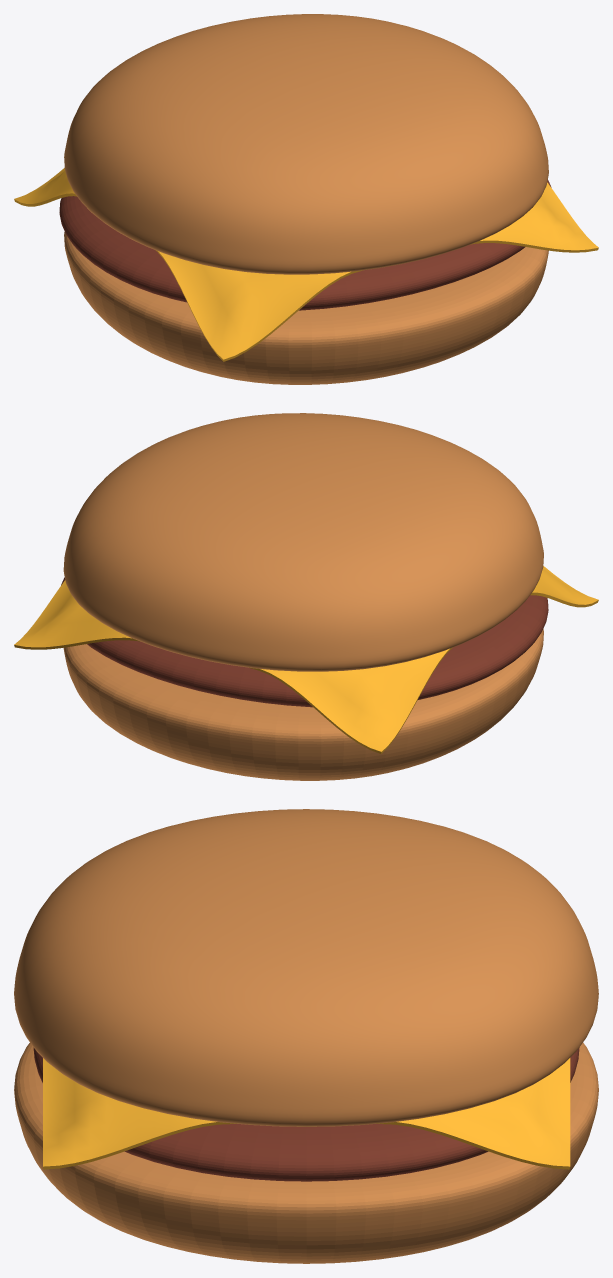
The model's file is hamburger.glb.
3 renders of one model, top to bottom at view 1: azimuth 30°, elevation 25°; view 2: azimuth 150°, elevation 25°; view 3: azimuth 270°, elevation 25°, orthographic. The views are drawn at different scales.
Visible parts, largest first — view 1: Cube.002, Cube, Plane, Cube.001; view 2: Cube.002, Cube, Plane, Cube.001; view 3: Cube.002, Cube, Plane, Cube.001.
Boxes of the visible parts, box(x1,y1,x2,y2) form: Cube.002: box(64, 14, 548, 274); Cube: box(64, 232, 548, 384); Plane: box(14, 168, 598, 361); Cube.001: box(59, 179, 551, 310); Cube.002: box(63, 413, 543, 671); Cube: box(63, 629, 543, 780); Plane: box(14, 566, 598, 753); Cube.001: box(61, 577, 548, 707); Cube.002: box(14, 809, 598, 1126); Cube: box(14, 1042, 598, 1263); Plane: box(43, 1058, 570, 1169); Cube.001: box(33, 1047, 579, 1181).
Size of the model in its own units: 11.21 by 6.45 by 10.69.
